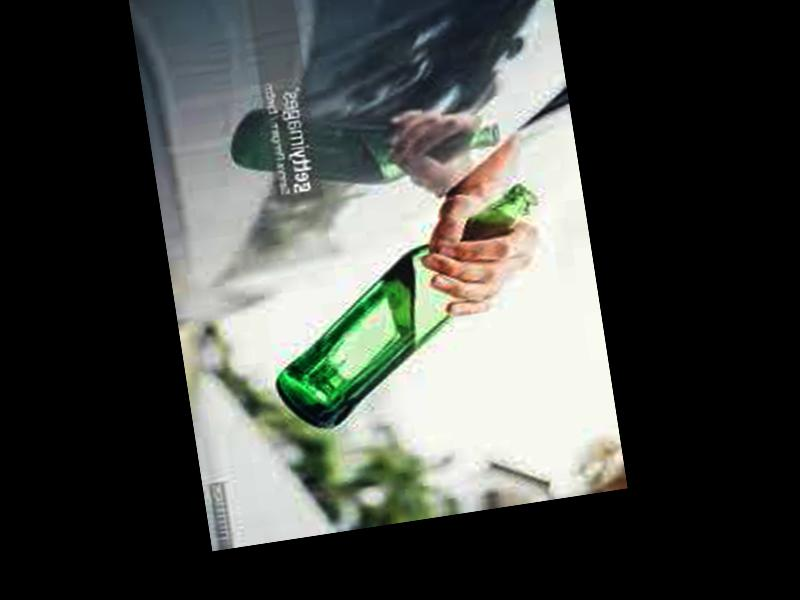Beer: (250, 179, 563, 433)
